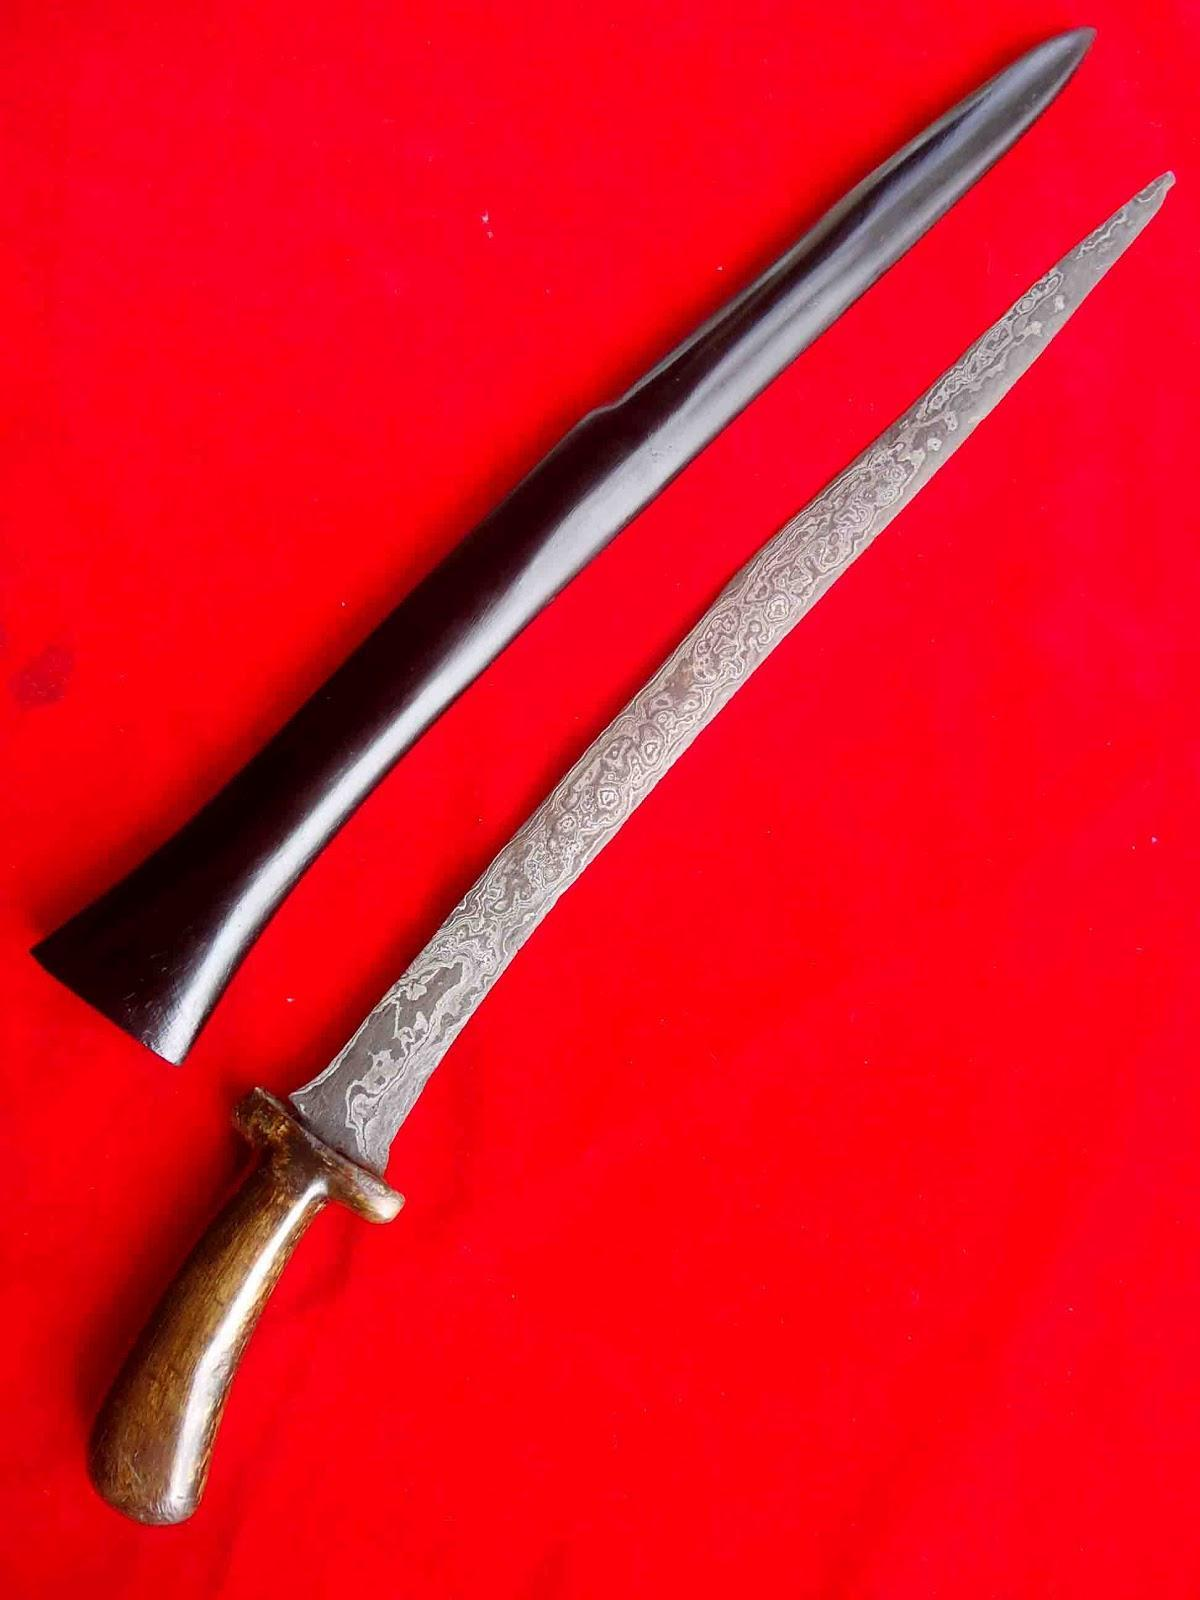espada: (84, 170, 1174, 1518)
